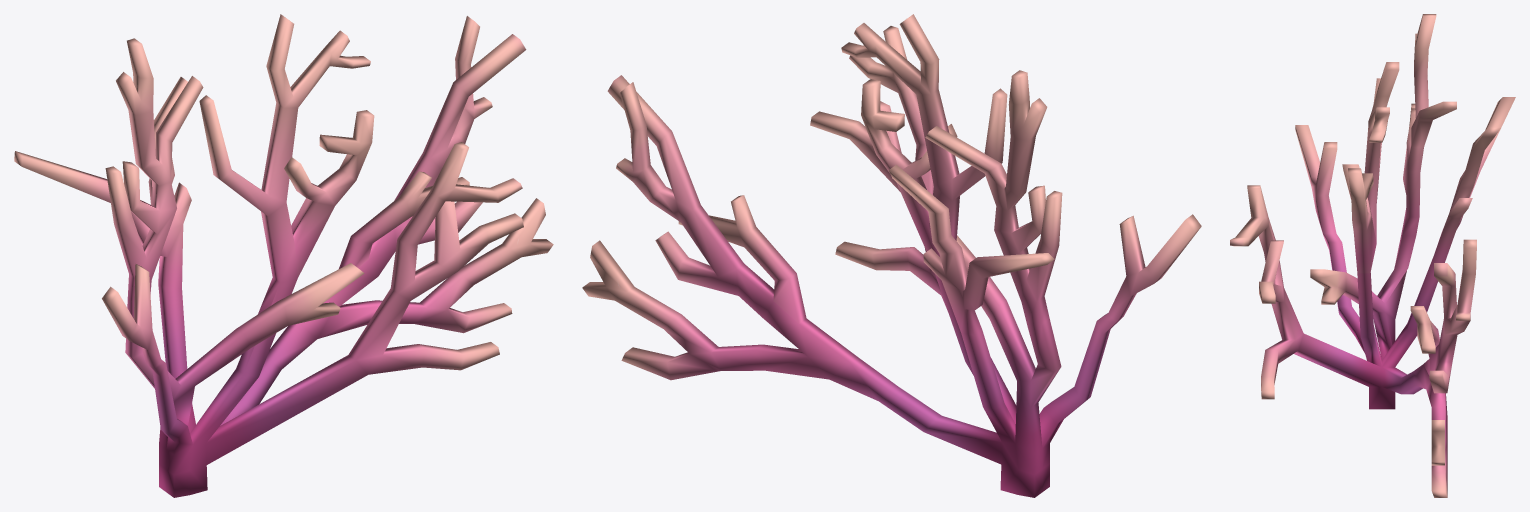
The model's file is sango.fbx.
3 views of the same model, side by side, from view 1: azimuth 30°, elevation 25°; view 2: azimuth 150°, elevation 25°; view 3: azimuth 270°, elevation 25° (orthographic). The views are drawn at different scales.
Parts seen in each view (by area): view 1: main; view 2: main; view 3: main.
Part boxes in pixels (<box>): main: <box>14,14,553,497</box>; main: <box>582,14,1201,497</box>; main: <box>1230,14,1515,497</box>.
Size of the model in its own units: 161 by 130 by 87.3.
